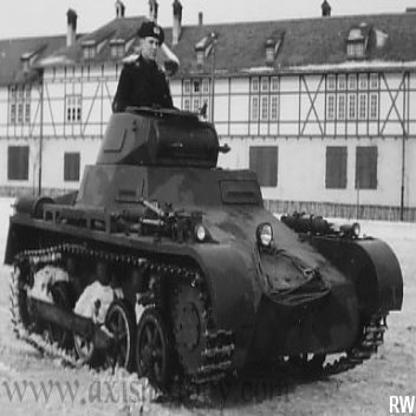Tank: (3, 105, 403, 396)
